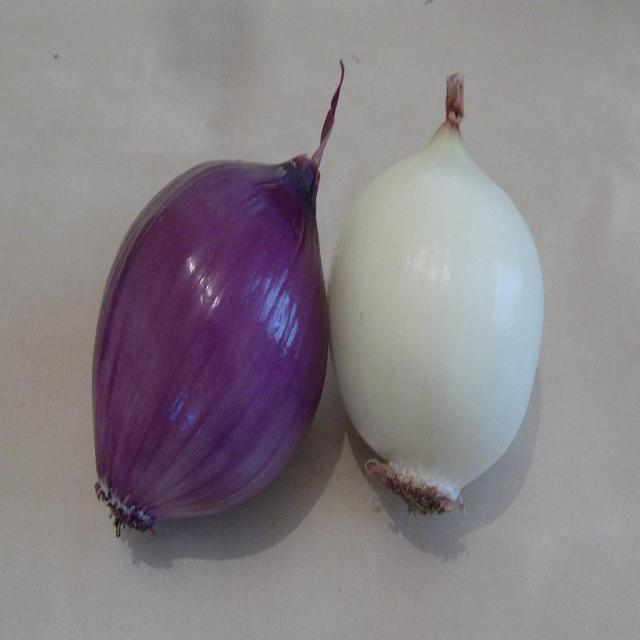Onion: (91, 52, 347, 537), (329, 74, 543, 514)
